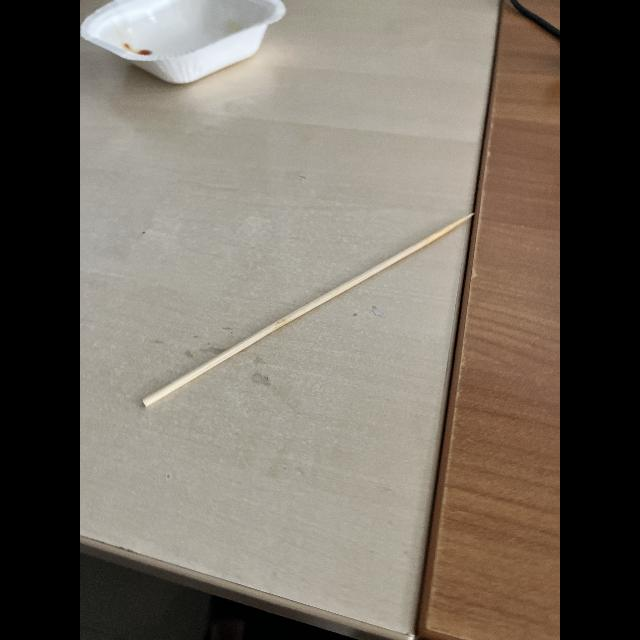cardboard_bowl: (80, 1, 300, 114)
stick: (130, 186, 483, 438)
